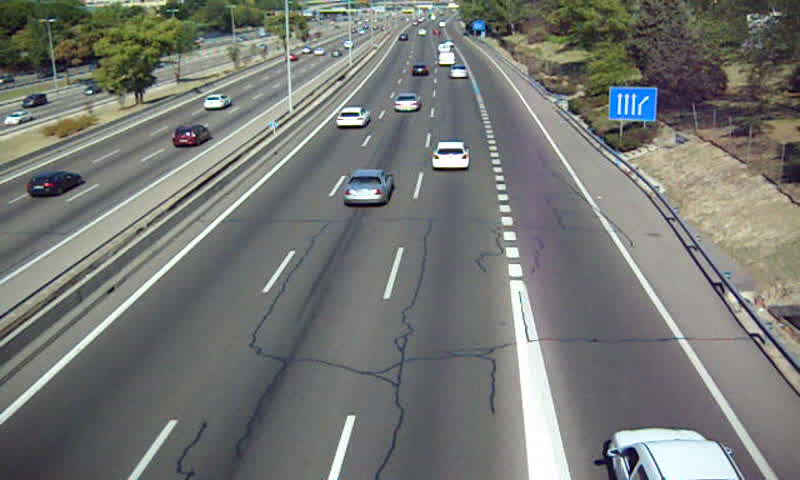car: (341, 169, 392, 205), (432, 141, 470, 170), (335, 106, 369, 130), (394, 92, 422, 113), (449, 65, 469, 80), (409, 64, 429, 78)
van: (437, 52, 457, 66)
